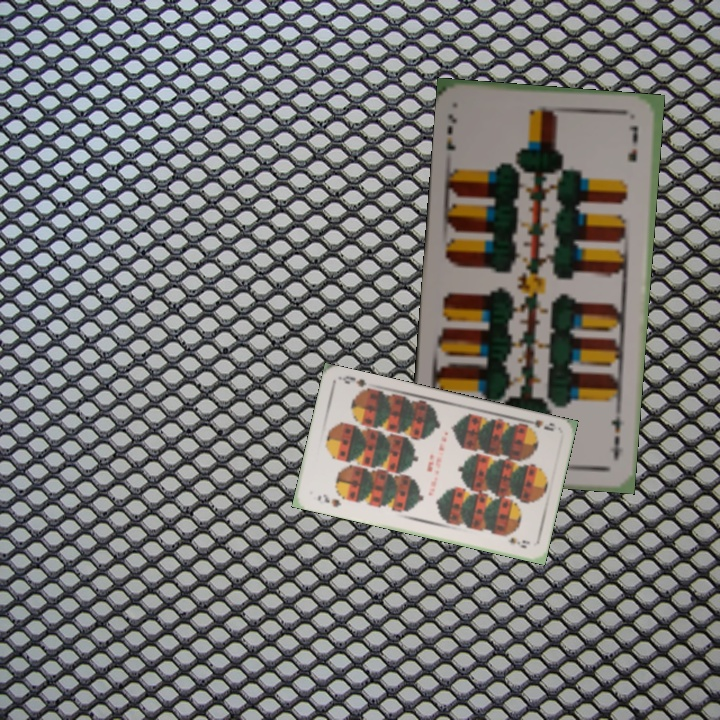E7: (605, 407, 623, 463), (443, 110, 460, 154)
S9: (519, 415, 557, 433), (313, 490, 344, 510)
